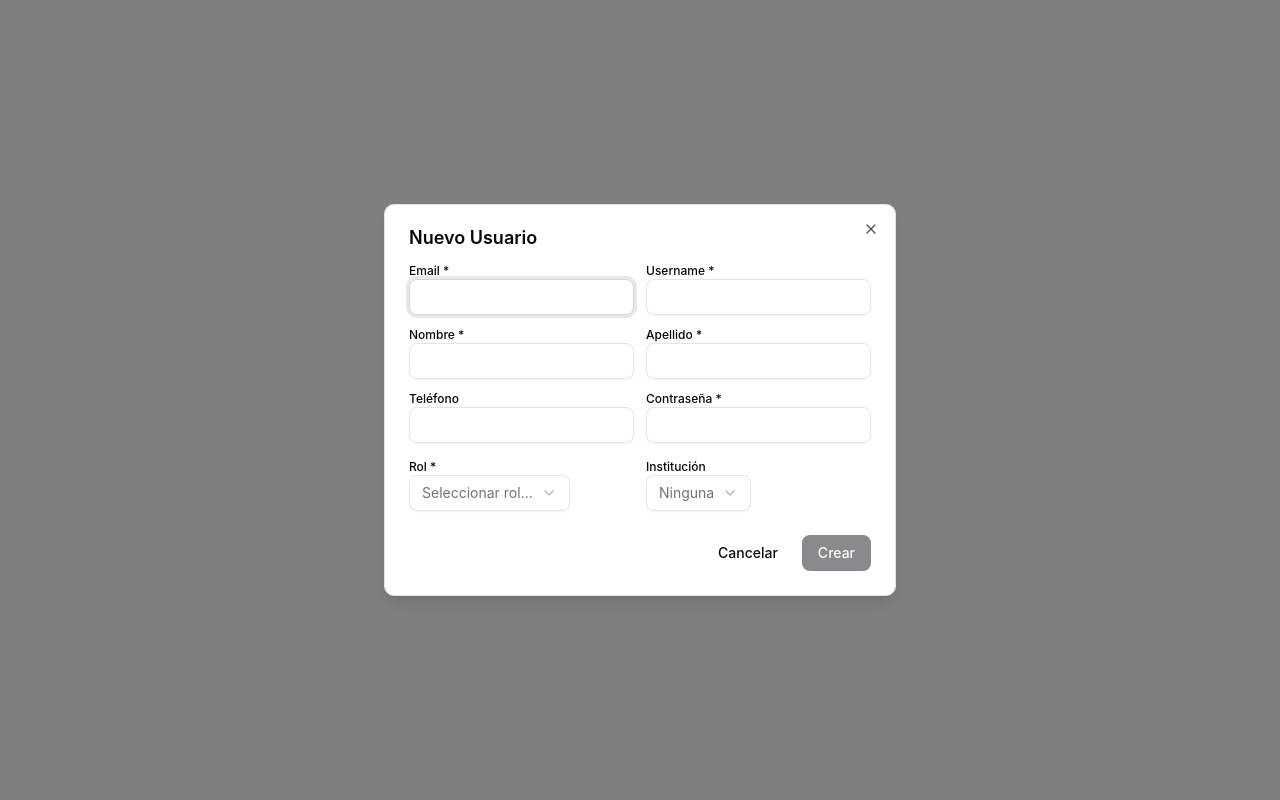
Test: UserFormDialog — create mode › only shows active institutions in the institution dropdown
# Open the institution select trigger (second combobox, after the role one)
Click the dropdown labelled "Ninguna": {"x": 699, "y": 493} top-left (646, 475), bottom-right (751, 511)
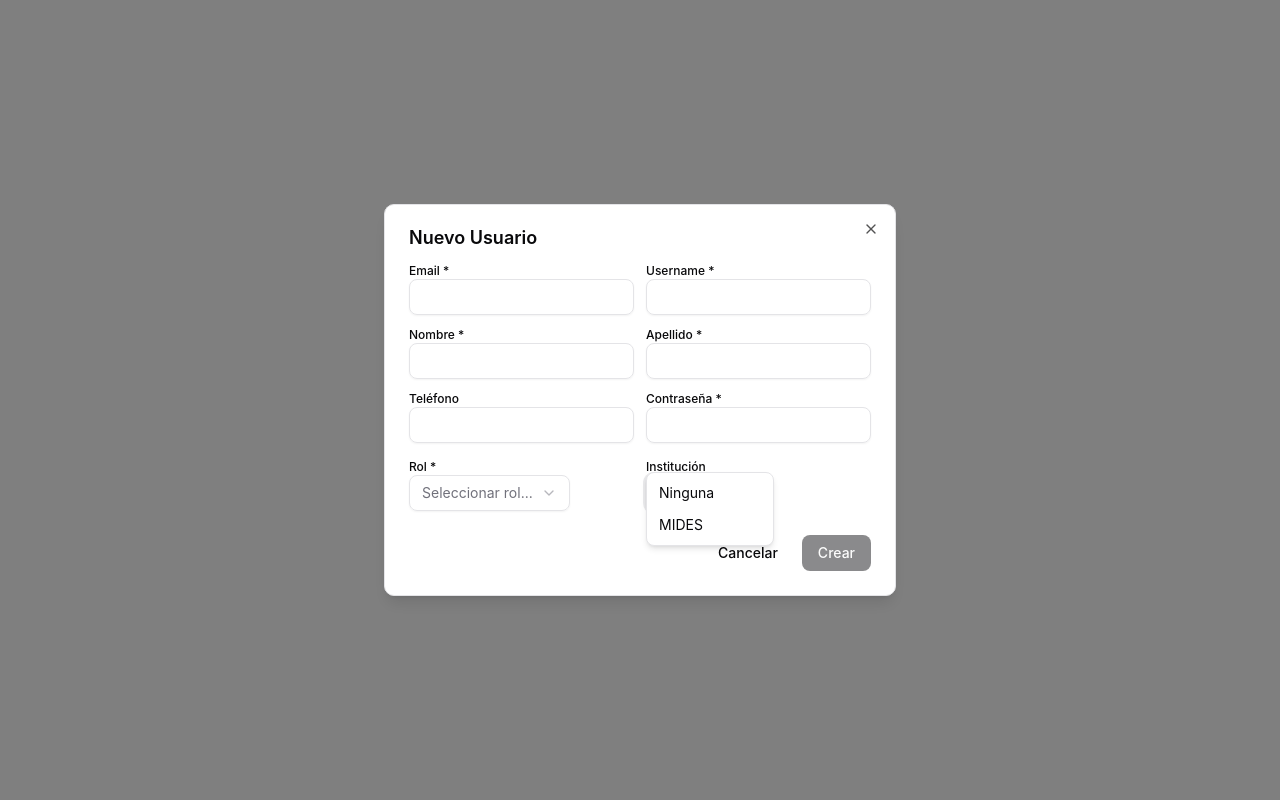
Expected: the text "MIDES" is shown, top-left (659, 515), bottom-right (703, 535)
